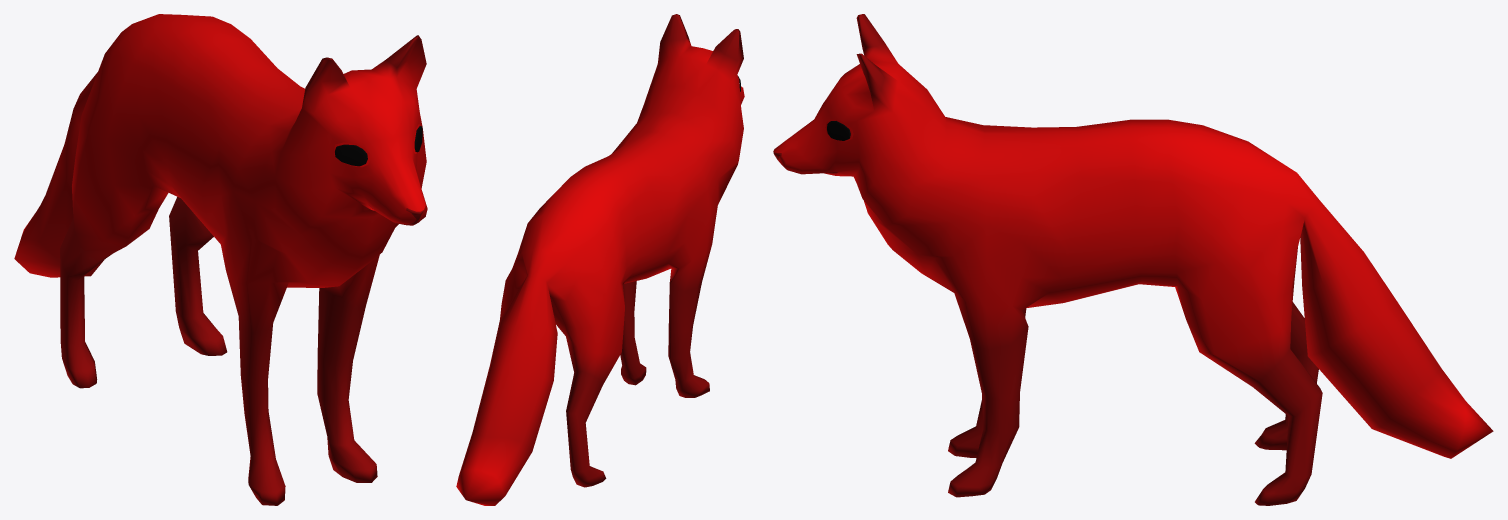
The model's file is RedFox.glb.
3 views of the same model, side by side, from view 1: azimuth 30°, elevation 25°; view 2: azimuth 150°, elevation 25°; view 3: azimuth 270°, elevation 25° (orthographic). The views are drawn at different scales.
Visible parts, largest first — view 1: base_node_48; view 2: base_node_48; view 3: base_node_48.
Boxes of the visible parts, x1=… form: base_node_48: x1=14, y1=14, x2=427, y2=505; base_node_48: x1=456, y1=14, x2=744, y2=505; base_node_48: x1=773, y1=14, x2=1493, y2=505.
Size of the model in its own units: 25.49 by 78.34 by 117.
